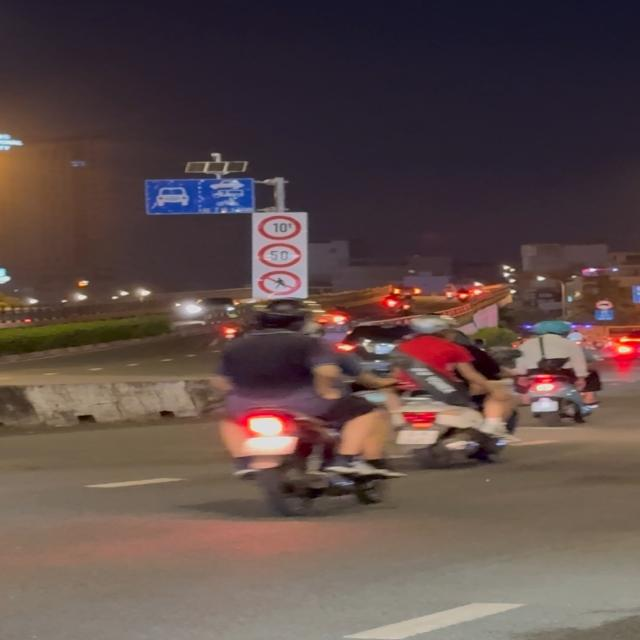Bien bao cam nguoi di bo: (256, 269, 299, 296)
Bien bao toc do toi da cho phep: (255, 241, 308, 270)
